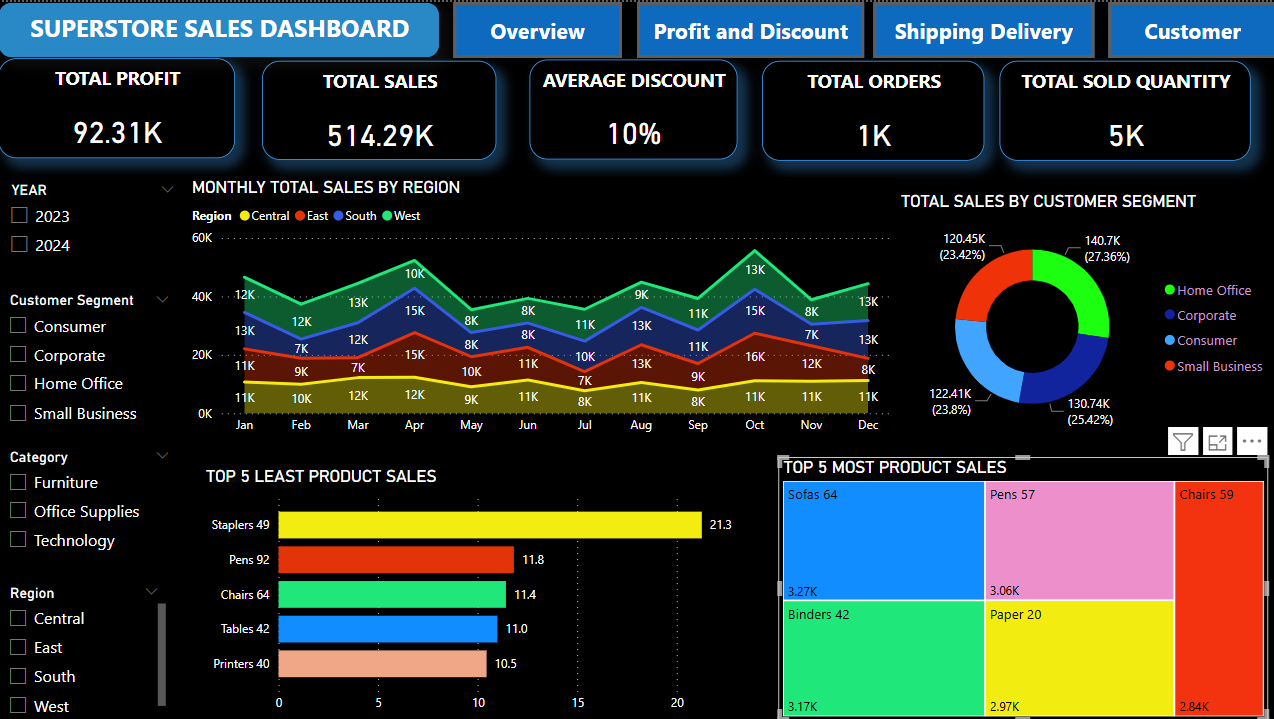

What the dashboard file says about the page in this screenshot:
{"tool":"powerbi","page":{"name":"Overview","canvas":[1280,720],"ordinal":0},"visuals":[{"type":"textbox","box":[1.2,0,441.3,56.2],"z":0},{"type":"slicer","fields":{"Values":["Superstore.Year"]},"box":[1.2,174.8,188.3,100.2],"z":5000},{"type":"slicer","fields":{"Values":["Superstore.Customer Segment"]},"box":[0,284.8,184.6,145.5],"z":6000},{"type":"slicer","fields":{"Values":["Superstore.Category"]},"box":[0,441.3,184.6,119.8],"z":7000},{"type":"slicer","fields":{"Values":["Superstore.Region"]},"box":[0,577,173.6,143],"z":8000},{"type":"cardVisual","title":"TOTAL PROFIT","fields":{"Data":["Superstore.Total_Profit"]},"box":[1.2,56.2,237.1,100.2],"z":9000},{"type":"cardVisual","title":"TOTAL ORDERS","fields":{"Data":["Superstore.Total_Orders"]},"box":[765,58.8,222.5,100],"z":10000},{"type":"cardVisual","title":"TOTAL SALES","fields":{"Data":["Superstore.Total_Sales"]},"box":[265.3,58.7,234.7,99],"z":11000},{"type":"cardVisual","title":"TOTAL SOLD QUANTITY","fields":{"Data":["Superstore.Total_Qty_Sold"]},"box":[1002.5,58.8,251.2,100],"z":12000},{"type":"cardVisual","title":"AVERAGE DISCOUNT","fields":{"Data":["Superstore.Avg_Discount"]},"box":[533,57.5,207.8,100.2],"z":13000},{"type":"stackedAreaChart","title":"MONTHLY TOTAL SALES BY REGION","fields":{"Category":["Superstore.Order_Month"],"Y":["Sum(Superstore.Sales Amount)"],"Series":["Superstore.Region"]},"box":[189.5,174.8,709,266.5],"z":14000},{"type":"donutChart","title":"TOTAL SALES BY CUSTOMER SEGMENT","fields":{"Y":["Sum(Superstore.Sales Amount)"],"Category":["Superstore.Customer Segment"]},"box":[898.5,188.3,381.4,253],"z":15000},{"type":"treemap","title":"TOP 5 MOST PRODUCT SALES","fields":{"Values":["Sum(Superstore.Sales Amount)"],"Group":["Superstore.Product Name"]},"box":[780.9,454.8,490.5,264.6],"z":16000},{"type":"clusteredBarChart","title":"TOP 5 LEAST PRODUCT SALES ","fields":{"Category":["Superstore.Product Name"],"Y":["Sum(Superstore.Sales Amount)"]},"box":[201.2,465,552.5,255],"z":17000},{"type":"actionButton","box":[456.2,0,168.8,56.2],"z":17001},{"type":"actionButton","box":[640,0,227.5,56.2],"z":17002},{"type":"actionButton","box":[876.2,0,221.2,56.2],"z":17003},{"type":"actionButton","box":[1111.2,0,168.8,56.2],"z":17004}]}

Visuals, with their boxes in screenshot pixels (x1, y1, x2, y2), scaled from the page's 1280x720 canvas onto the 1274x719 screenshot:
textbox: 1/0/440/56
slicer - Superstore.Year: 1/175/189/275
slicer - Superstore.Customer Segment: 0/284/184/430
slicer - Superstore.Category: 0/441/184/560
slicer - Superstore.Region: 0/576/173/718
"TOTAL PROFIT" cardVisual: 1/56/237/156
"TOTAL ORDERS" cardVisual: 761/59/983/159
"TOTAL SALES" cardVisual: 264/59/498/157
"TOTAL SOLD QUANTITY" cardVisual: 998/59/1248/159
"AVERAGE DISCOUNT" cardVisual: 531/57/737/157
"MONTHLY TOTAL SALES BY REGION" stackedAreaChart: 189/175/894/441
"TOTAL SALES BY CUSTOMER SEGMENT" donutChart: 894/188/1273/441
"TOP 5 MOST PRODUCT SALES" treemap: 777/454/1265/718
"TOP 5 LEAST PRODUCT SALES " clusteredBarChart: 200/464/750/718
actionButton: 454/0/622/56
actionButton: 637/0/863/56
actionButton: 872/0/1092/56
actionButton: 1106/0/1273/56
